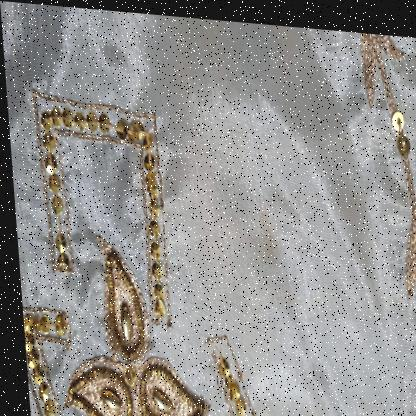spot: (245, 184, 278, 268)
